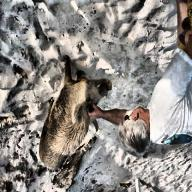boar: (8, 68, 125, 187)
